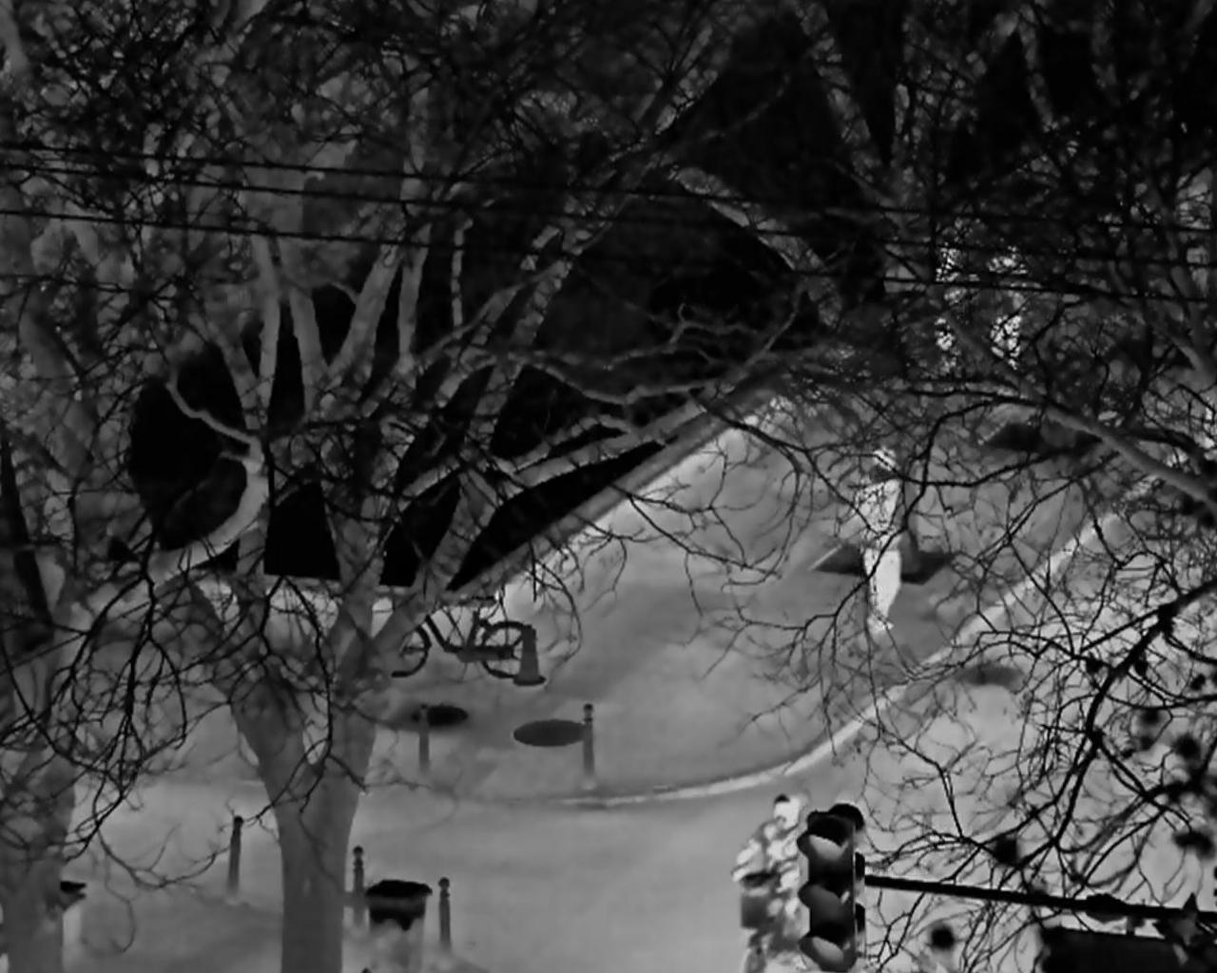person: (853, 443, 903, 635), (735, 791, 802, 925)
